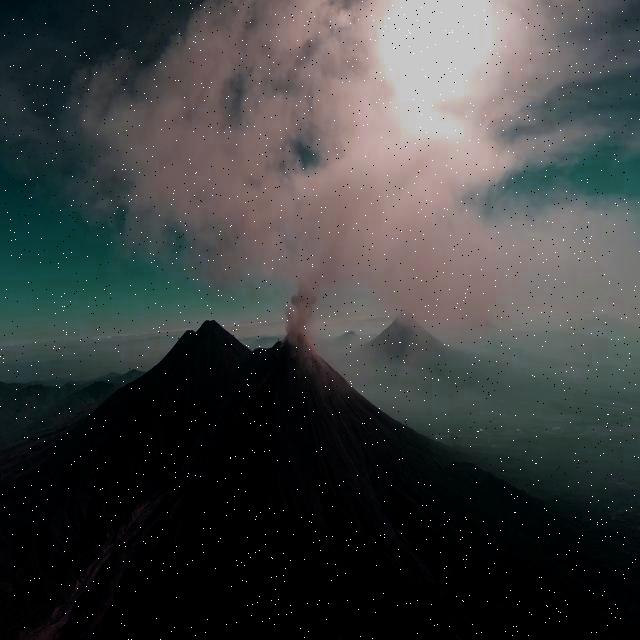Plume: (0, 0, 640, 319), (287, 280, 319, 340)
Summit: (270, 326, 326, 362)
